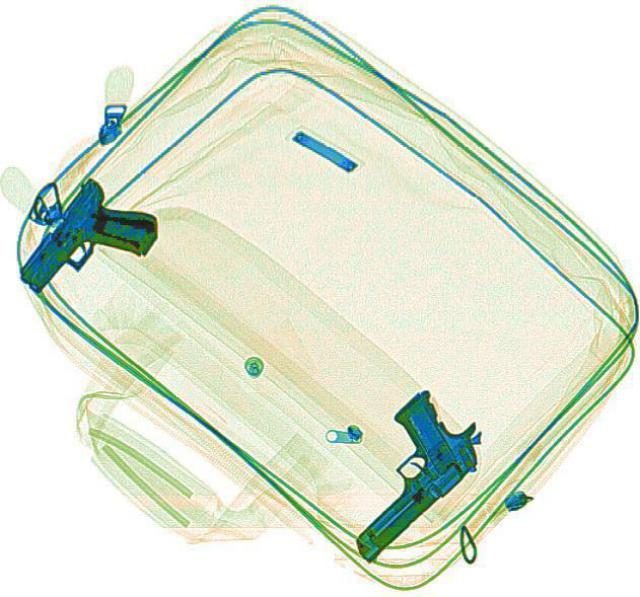Gun: (292, 379, 504, 563), (3, 174, 169, 321)
